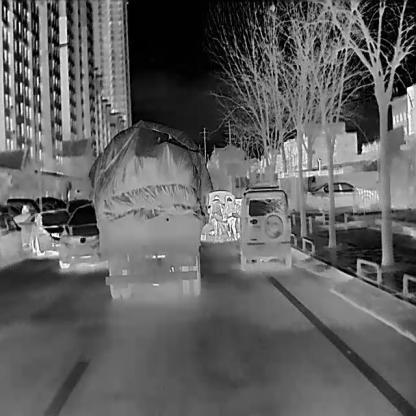car: (87, 119, 213, 298), (57, 202, 108, 268), (305, 180, 379, 213), (27, 210, 70, 255), (0, 212, 20, 267), (208, 194, 228, 243), (222, 194, 239, 238), (5, 197, 39, 214), (36, 194, 66, 209)
